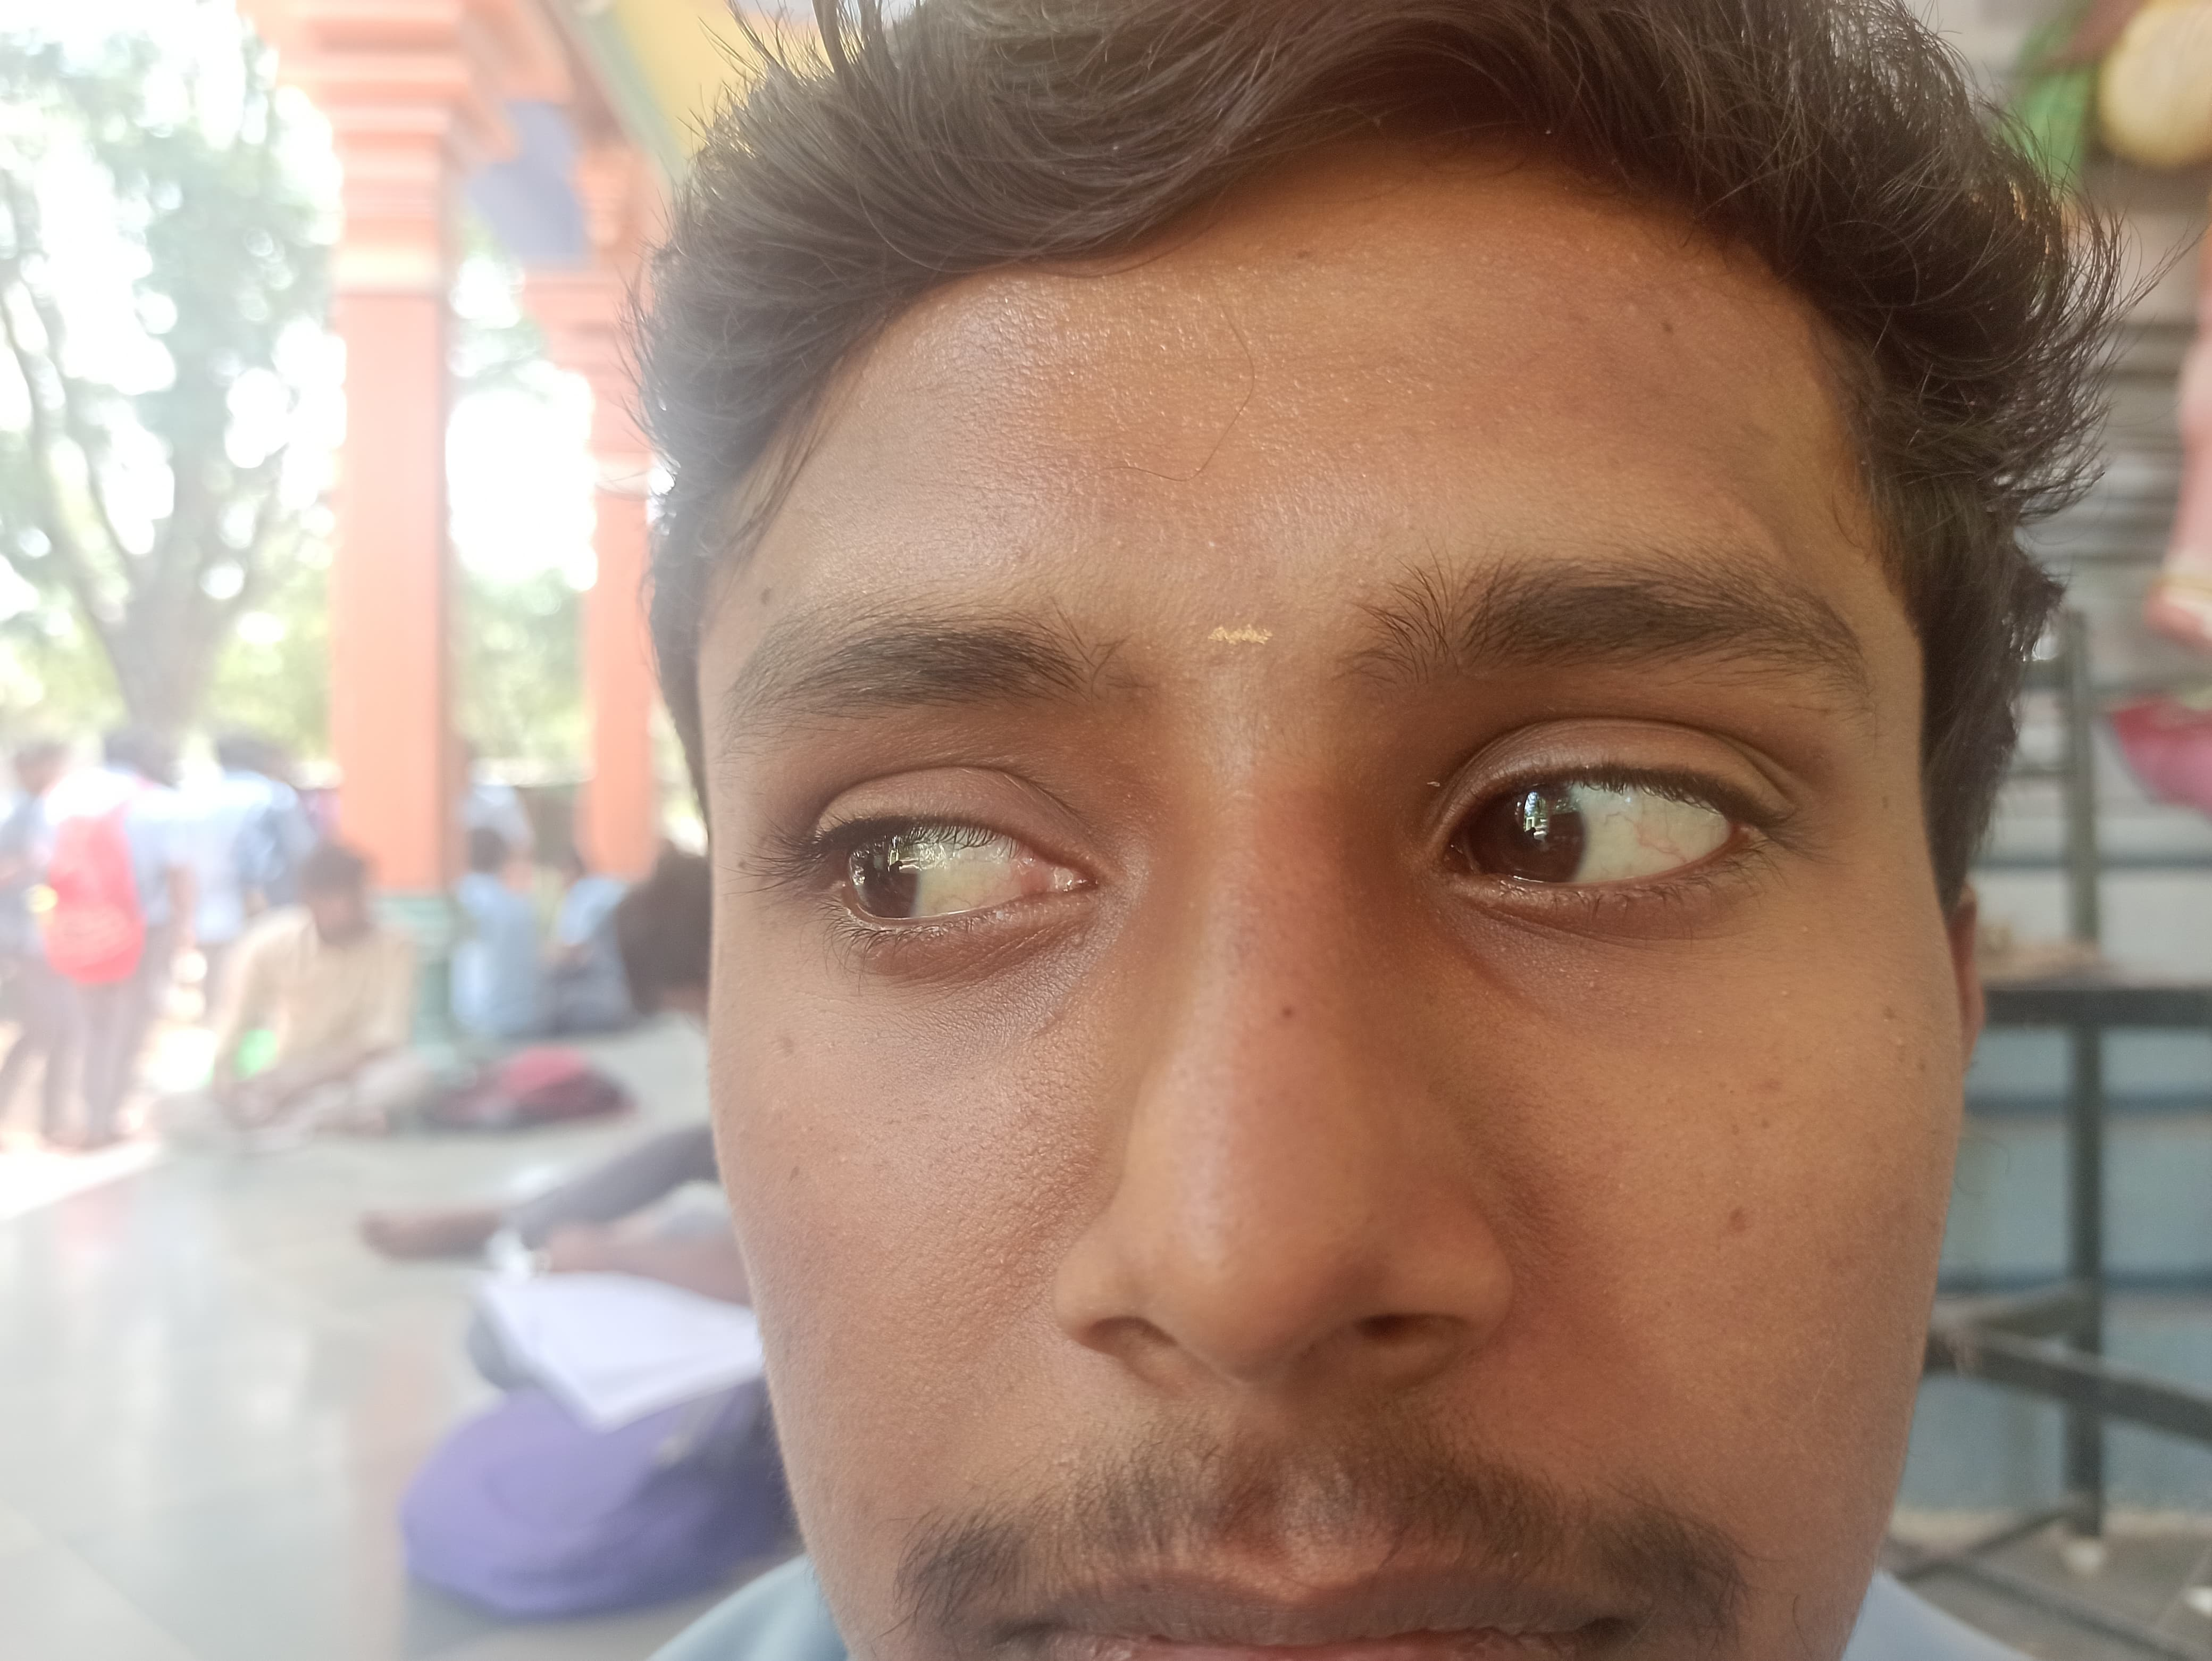EYE RIGHT: (1336, 553, 2139, 1101), (520, 558, 1254, 1092)
